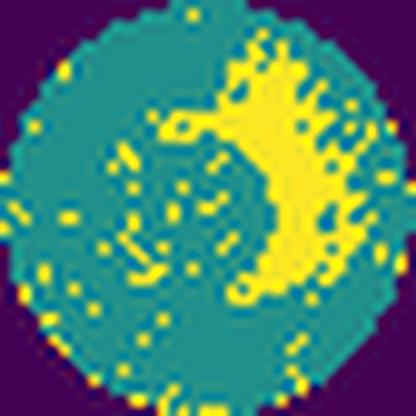Donut: (100, 22, 390, 318)
